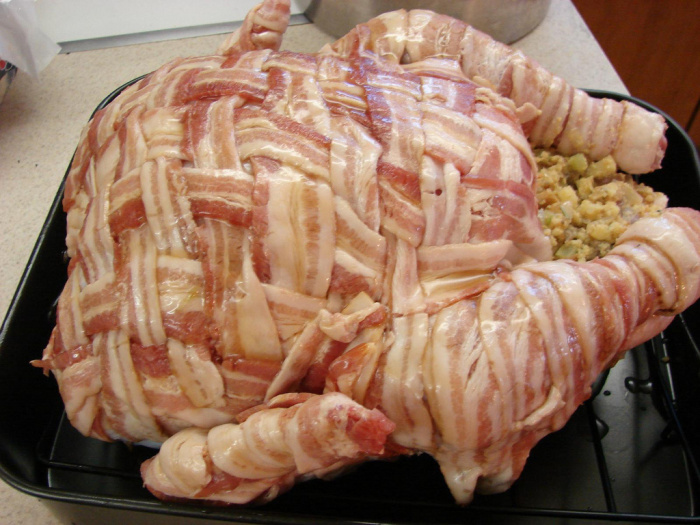bacon: (65, 56, 499, 372)
